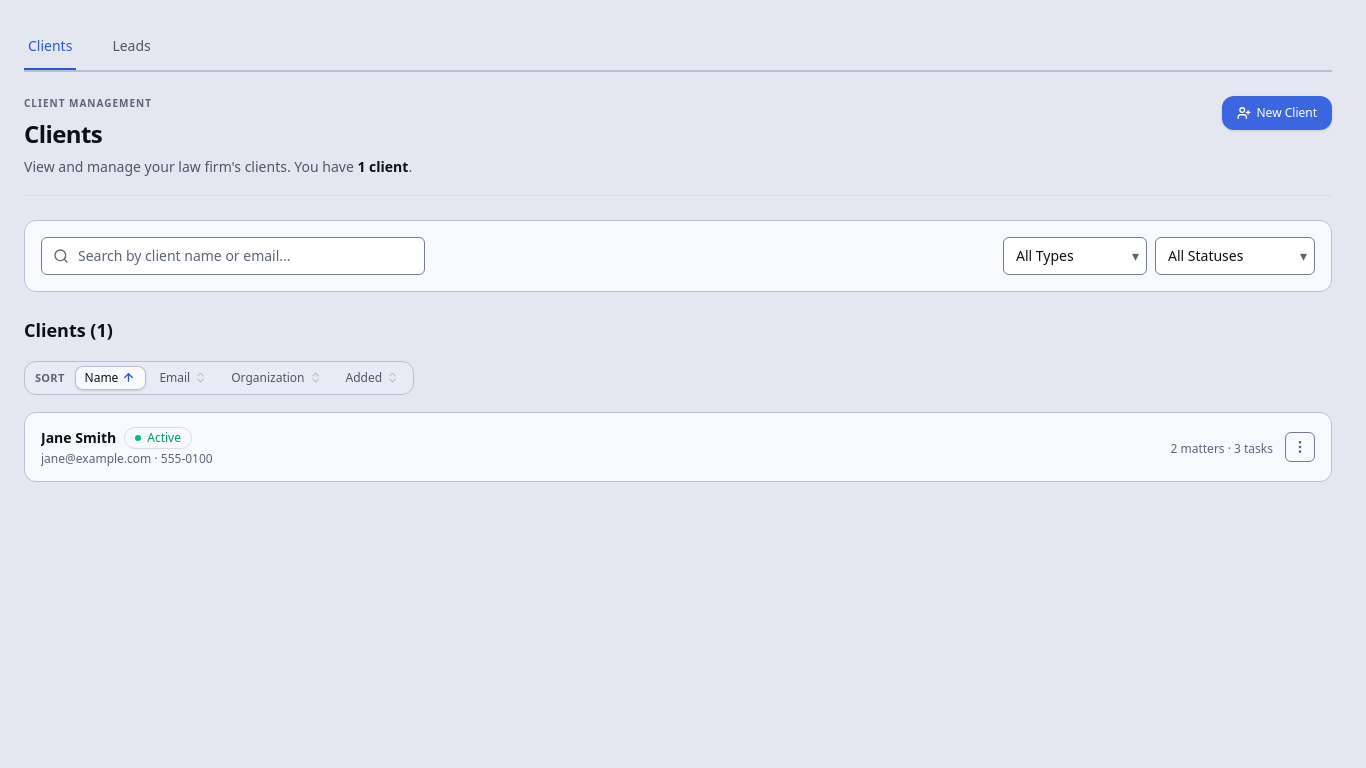
Test: a successful action: changing a client's status › sends the new status and confirms it
This screenshot has width=1366, height=768.
expect the text "Jane Smith" is shown: met, box [41, 428, 116, 448]
Step 1. Click the button named "Actions for Jane Smith" → (1300, 447), box [1285, 432, 1315, 462]
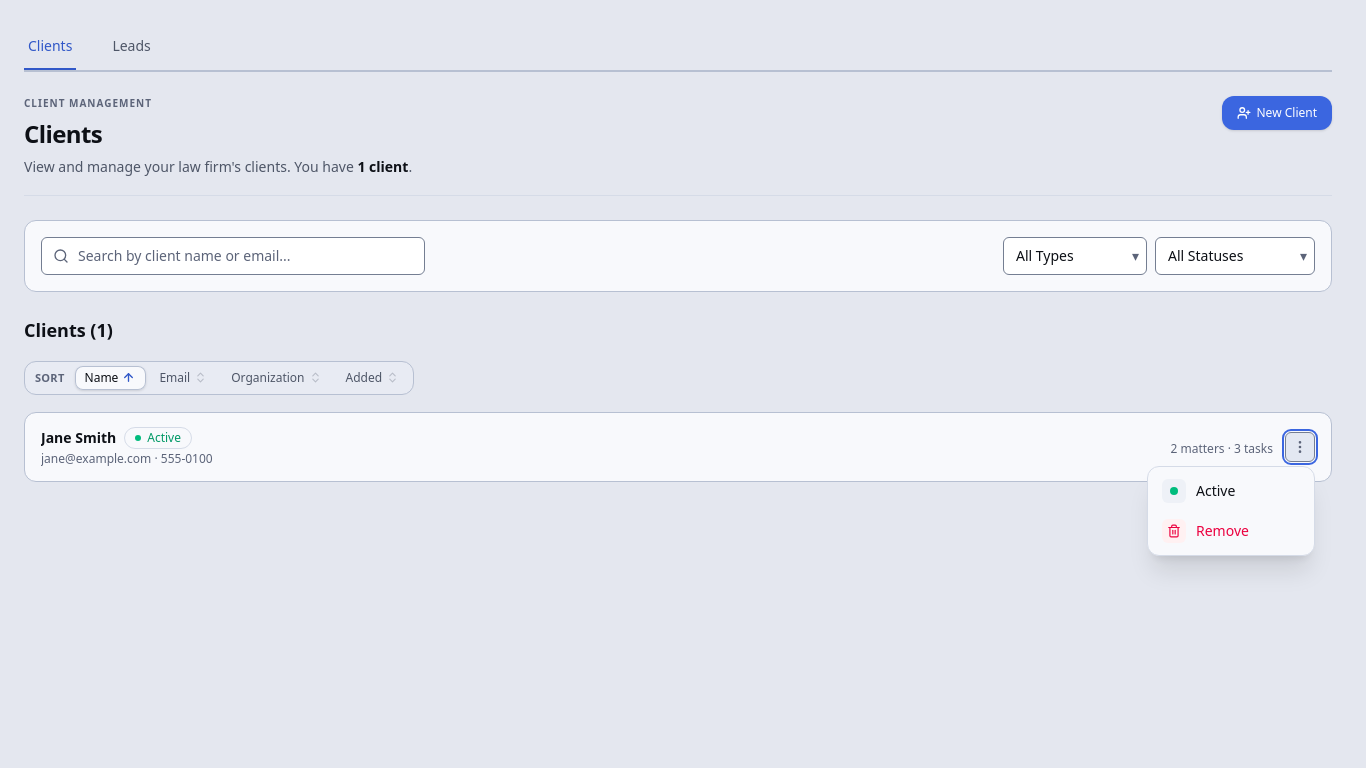
Step 2. Click the menu item "Active" → (1231, 491), box [1152, 471, 1310, 511]
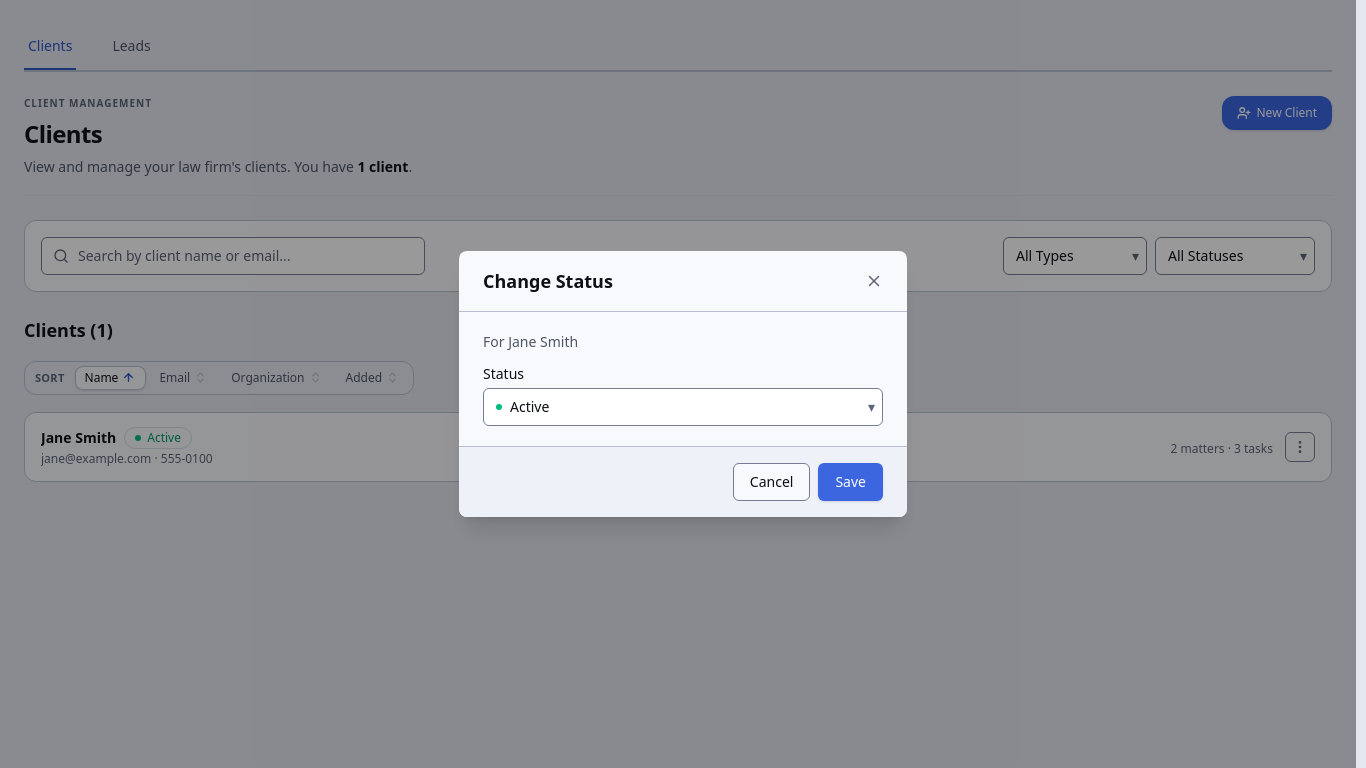
Step 3. Click the button named "Status" → (530, 406), box [483, 388, 883, 426]
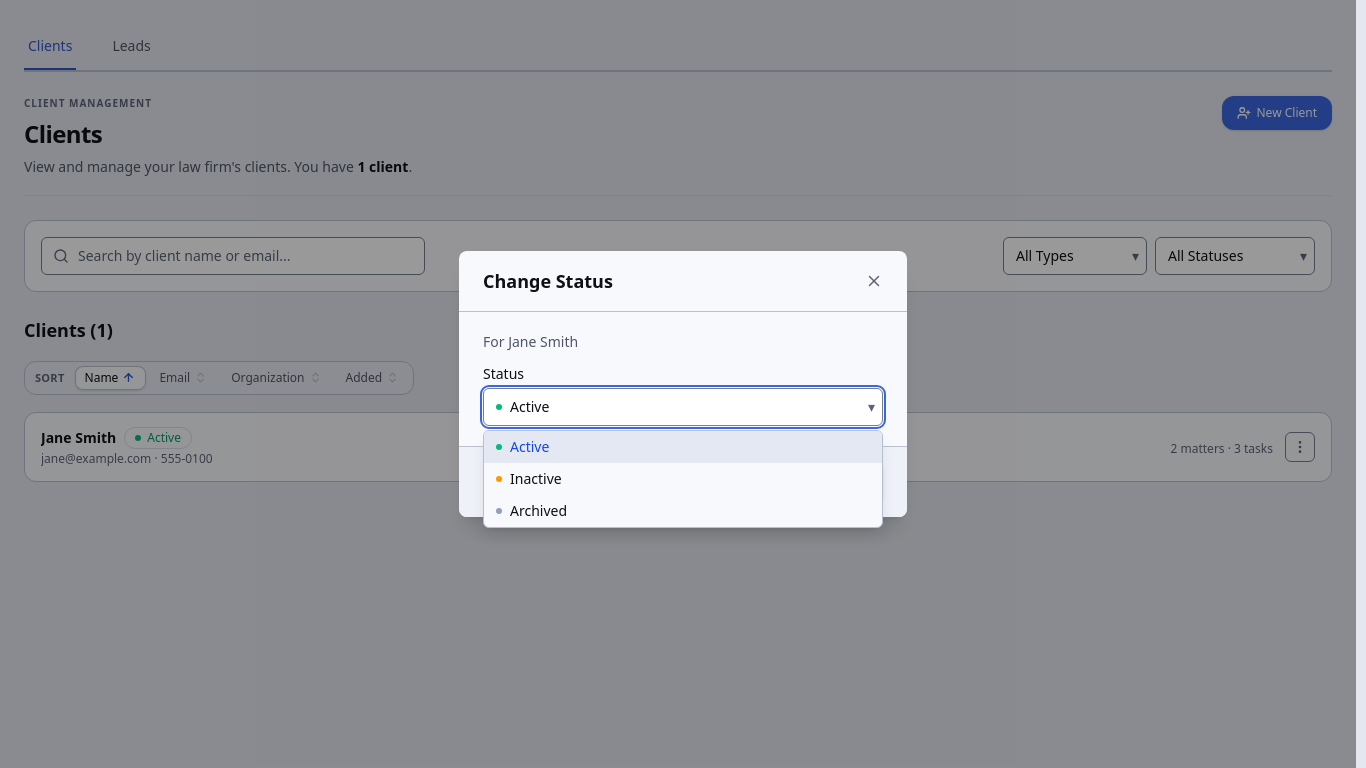
Step 4. Click the option "Inactive" → (529, 478), box [496, 469, 562, 488]
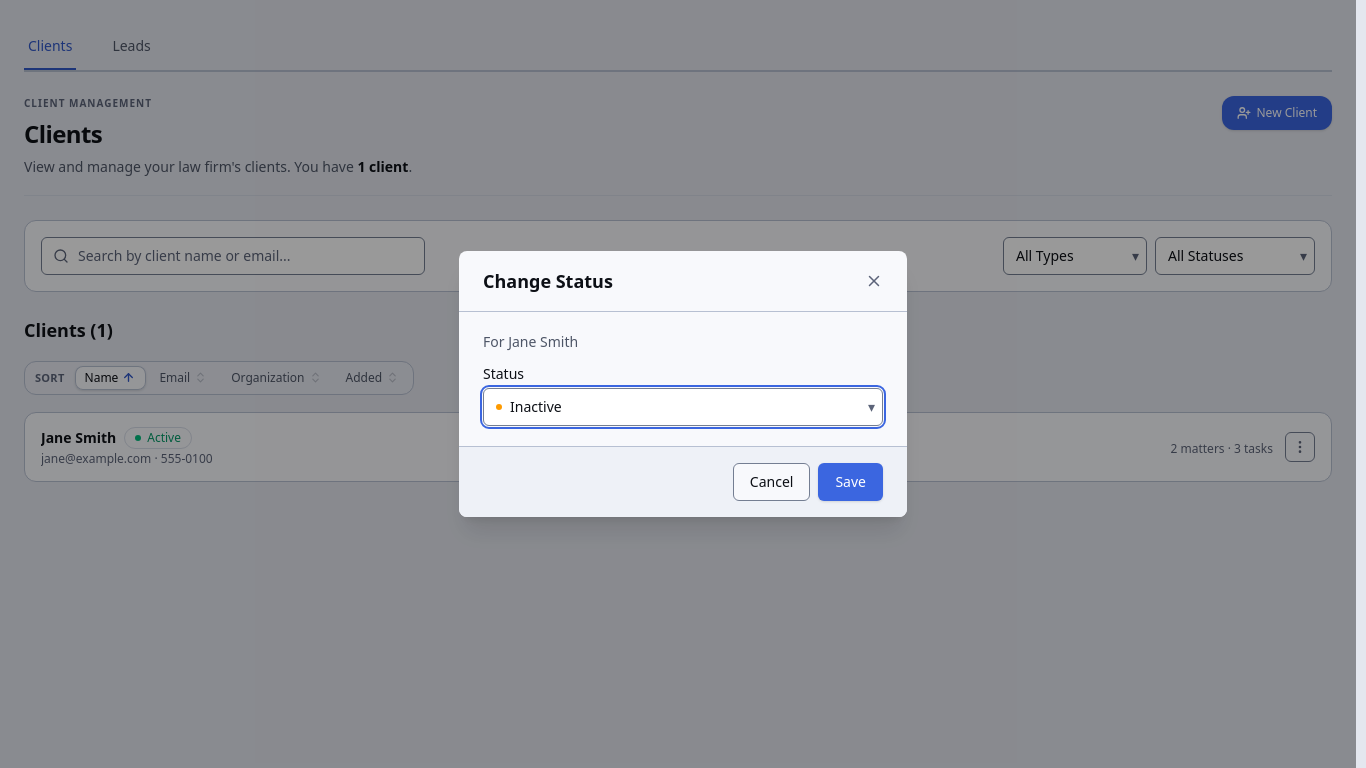
Step 5. Click the button "Save" → (851, 482), box [818, 463, 883, 501]
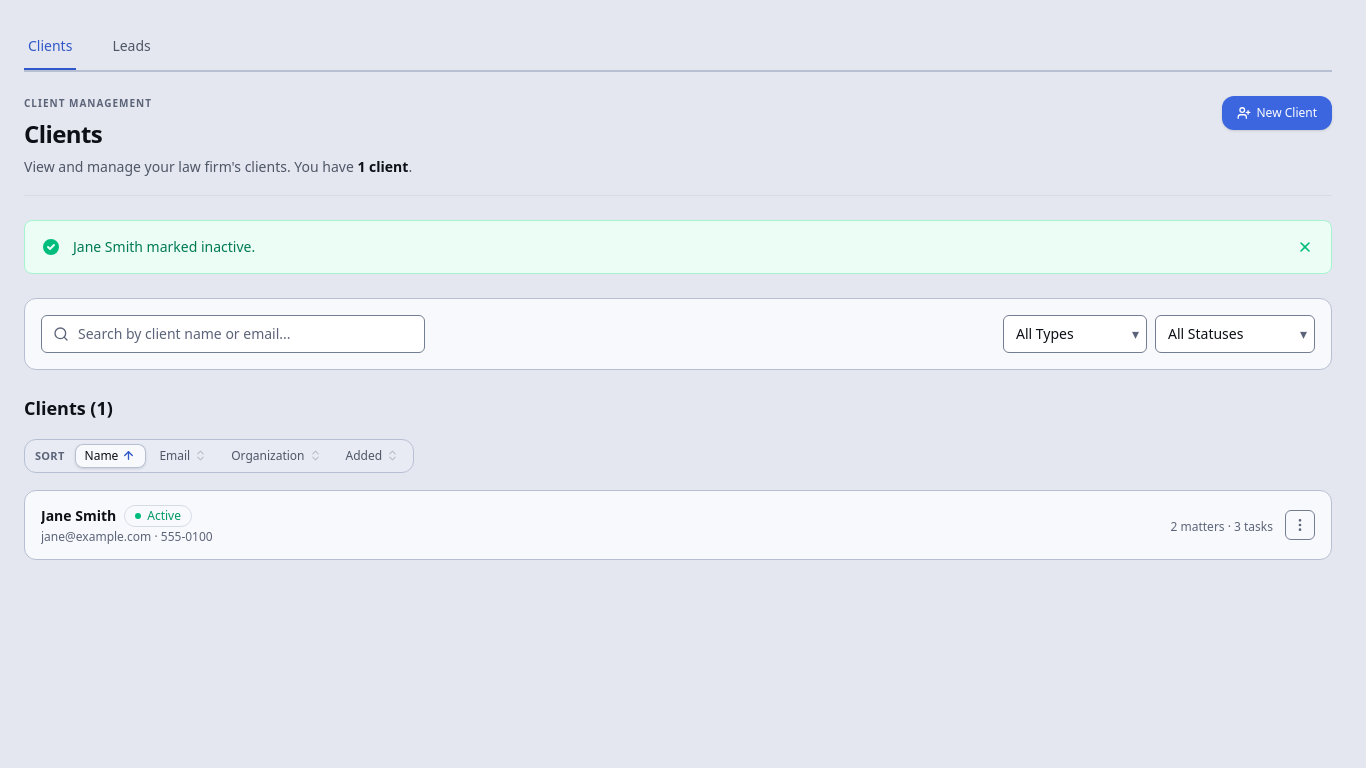
expect the text "Jane Smith marked inactive." is shown: met, box [73, 237, 255, 256]
